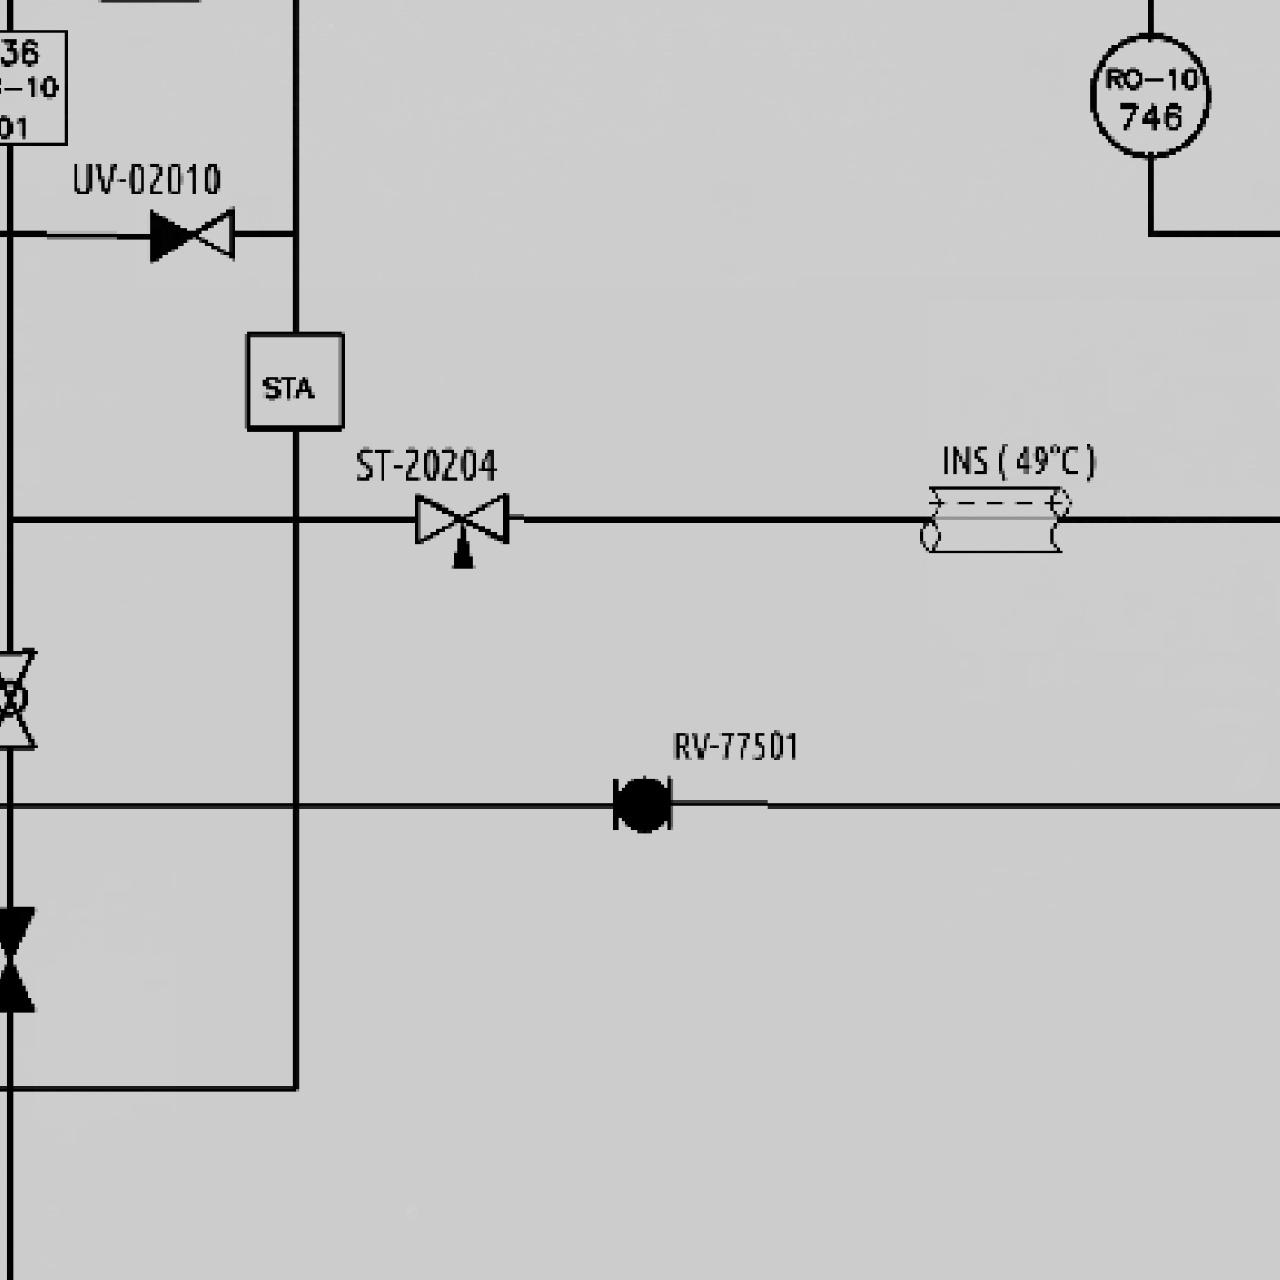Control-Panel: (1082, 28, 1216, 162)
Half closed valve: (144, 202, 239, 265)
